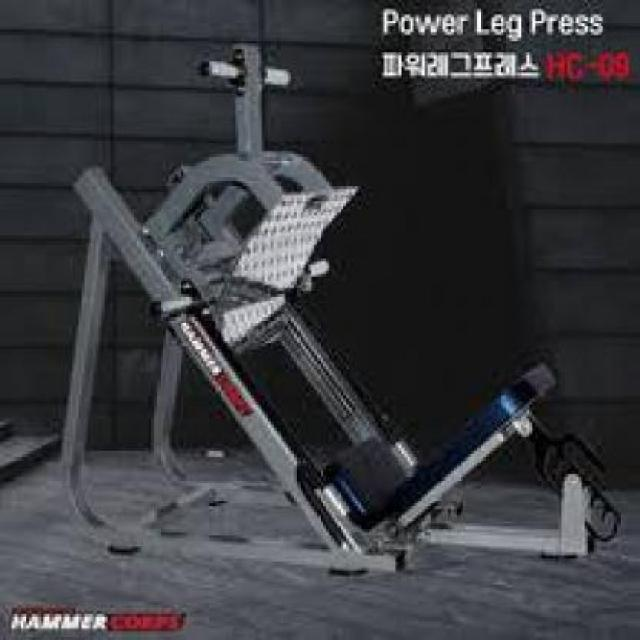leg press: (51, 38, 640, 594)
